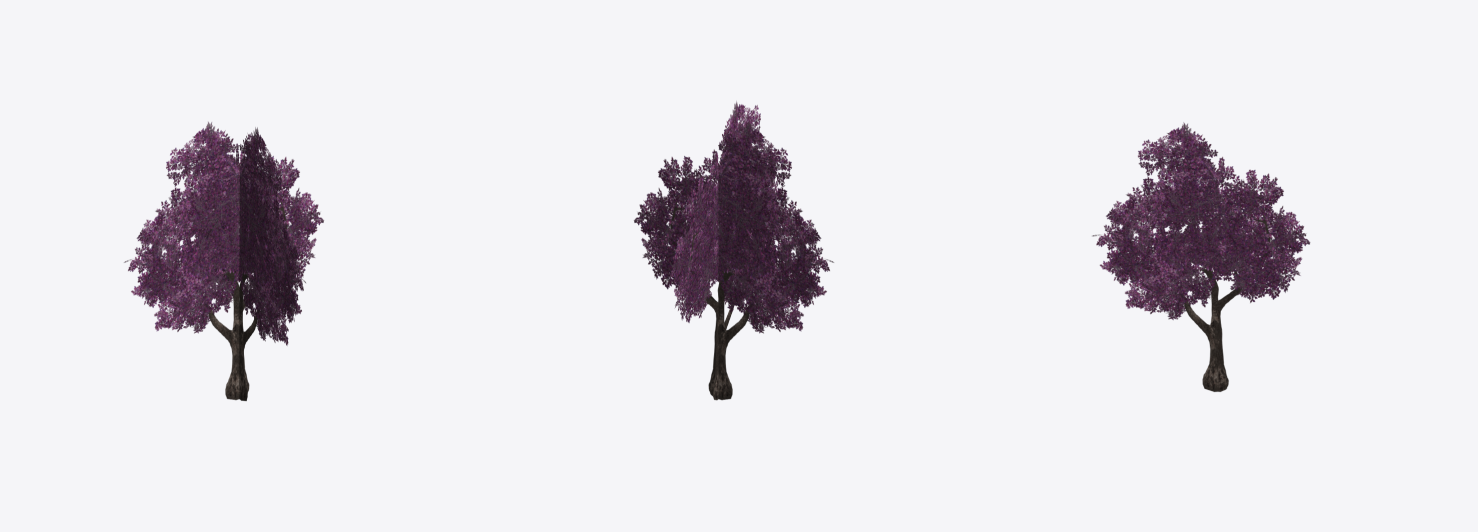
The model's file is PinkTreeCrossSection.glb.
The picture shows the model from 3 angles, left to right: view 1: azimuth 30°, elevation 25°; view 2: azimuth 150°, elevation 25°; view 3: azimuth 270°, elevation 25°; orthographic projection. The views are drawn at different scales.
Parts seen in each view (by area): view 1: Plane; view 2: Plane; view 3: Plane.
Part boxes in pixels (x1,y1,x2,y2): Plane: [124, 121, 323, 400]; Plane: [634, 101, 833, 400]; Plane: [1092, 122, 1310, 391].
Size of the model in its own units: 26.96 by 17.95 by 26.96.
1 material, 1 textured.
